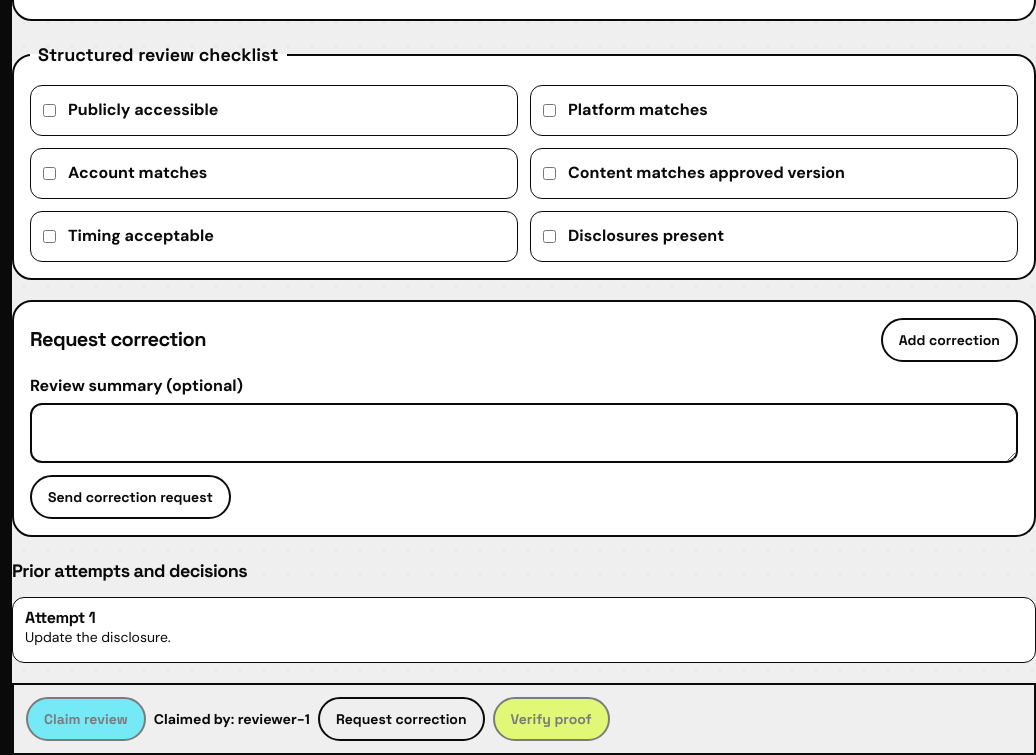
Test: PublicationProofReview › creates and focuses the first categorized correction from the empty sticky action
(page scrolled)
expect the field labelled "Correction 1" is not shown: met
Click the button "Request correction" at point(401, 718), box [318,696,485,740]
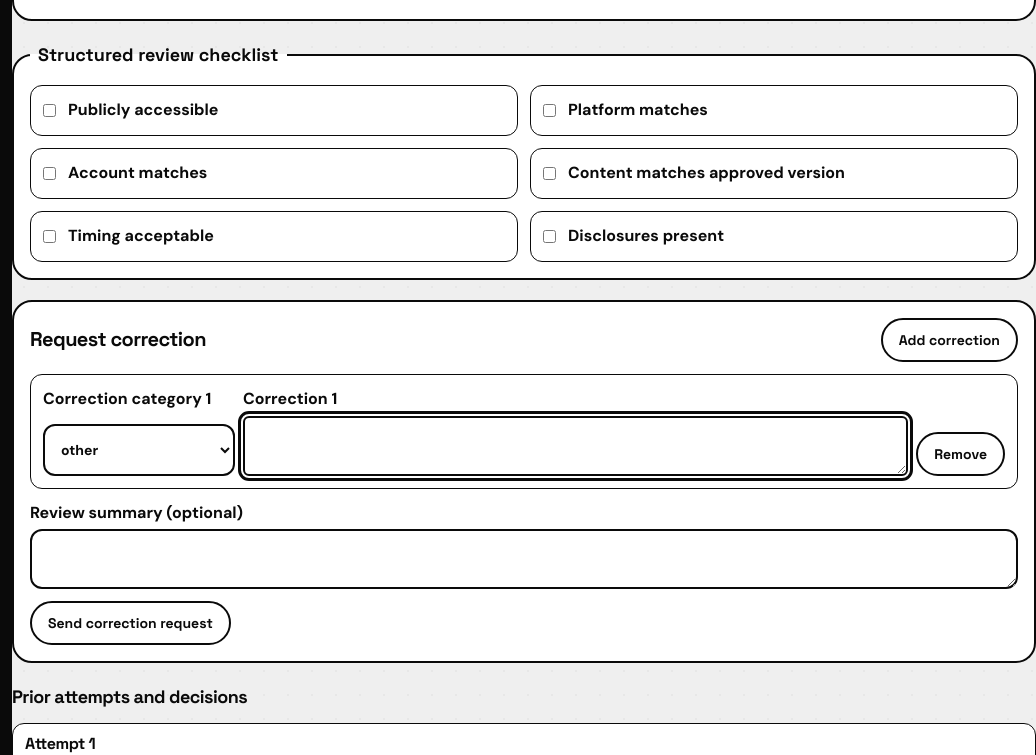
expect the dropdown labelled "Correction category 1" shows "other": met, box [43,424,235,476]
